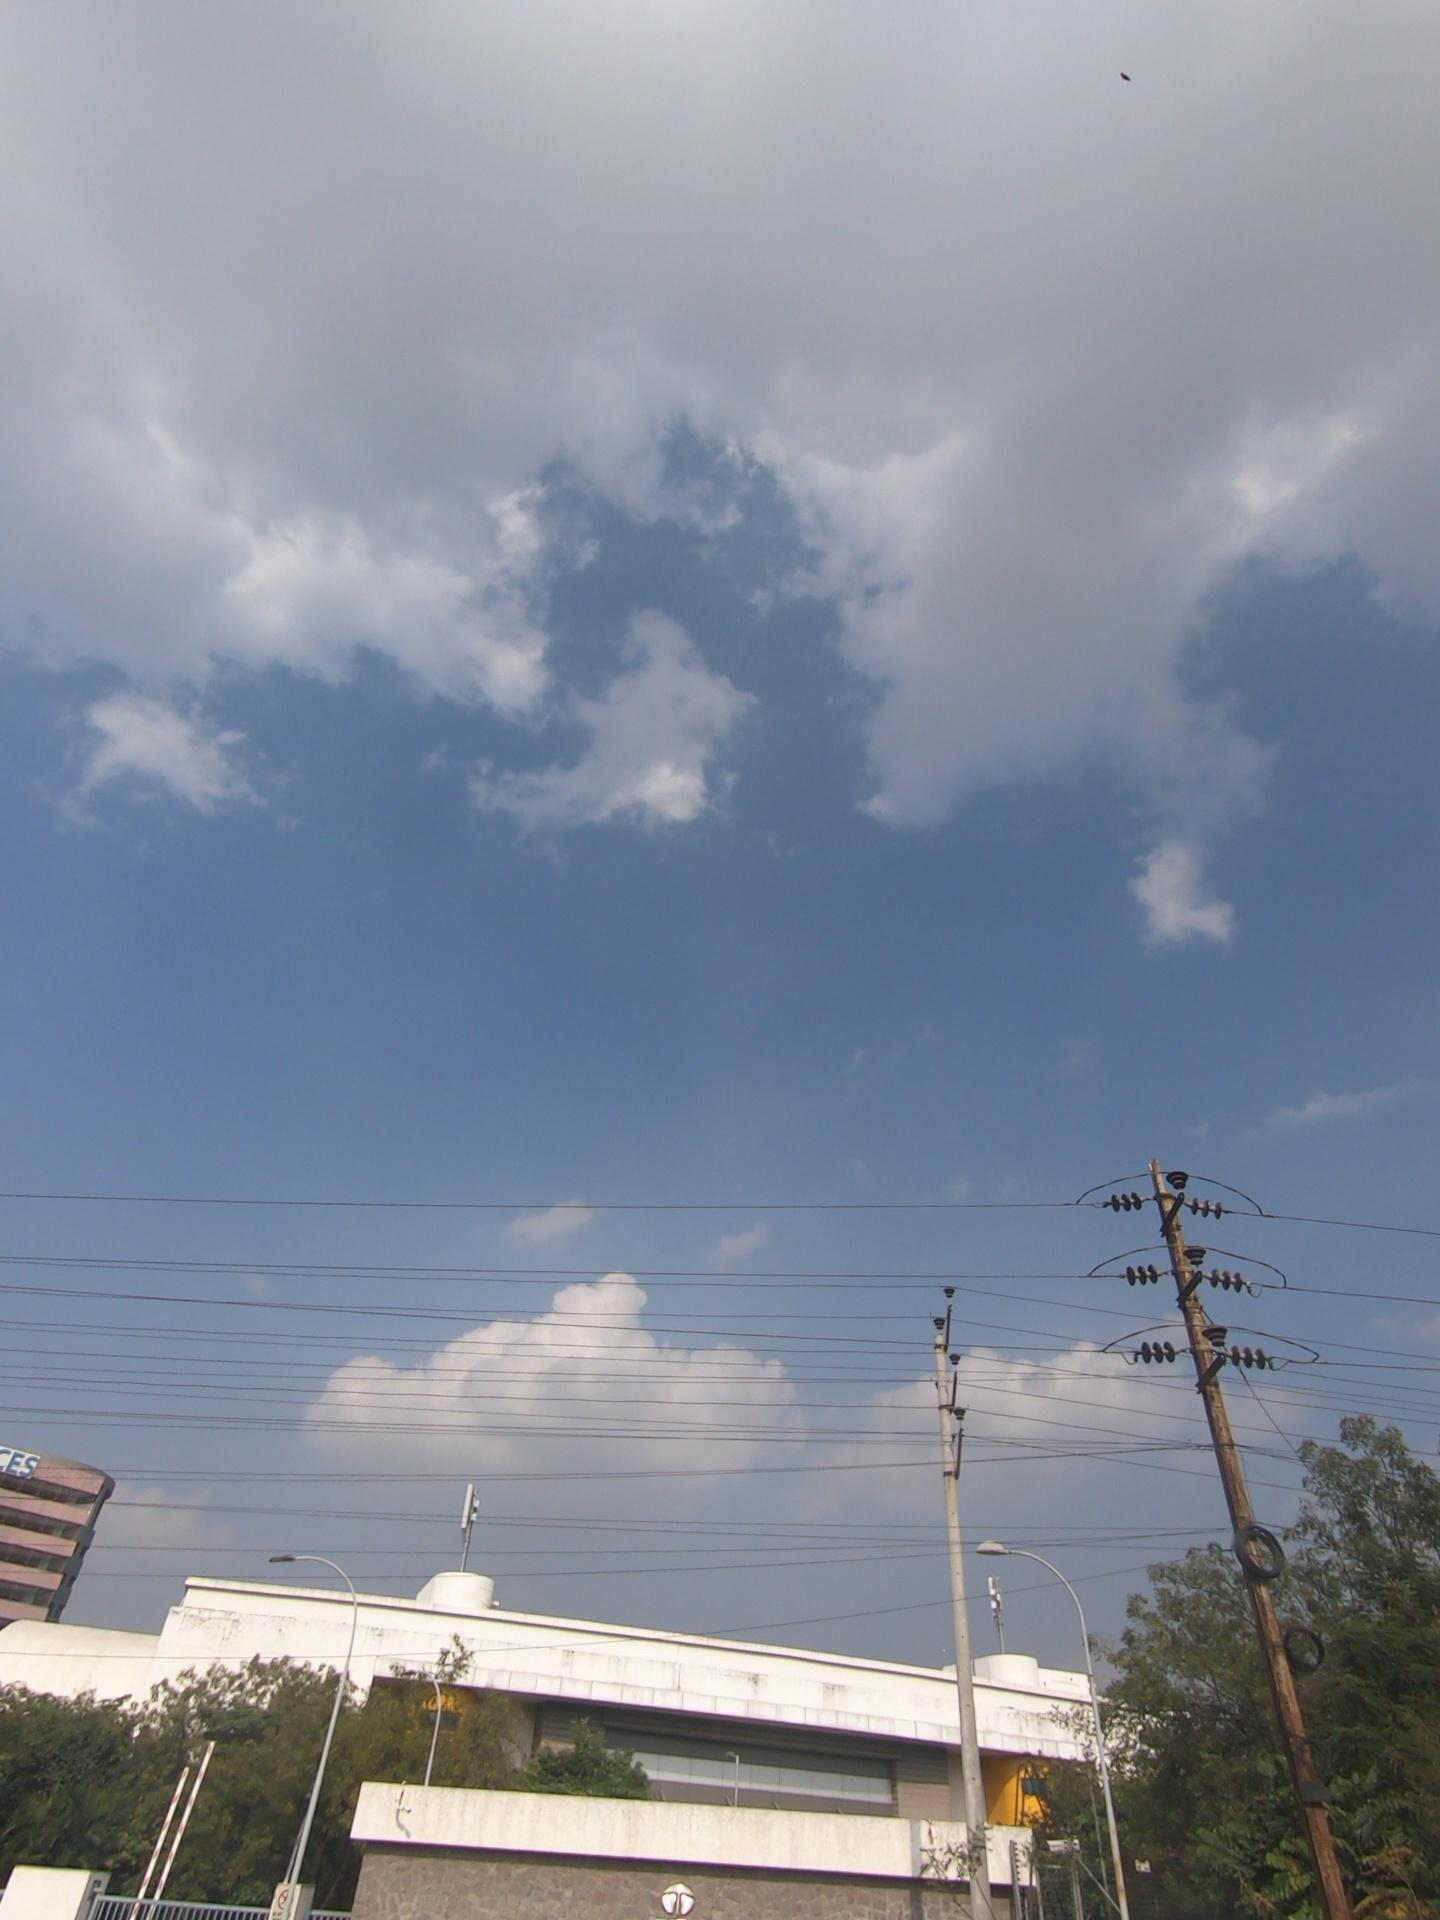off: (110, 1586, 511, 1920)
